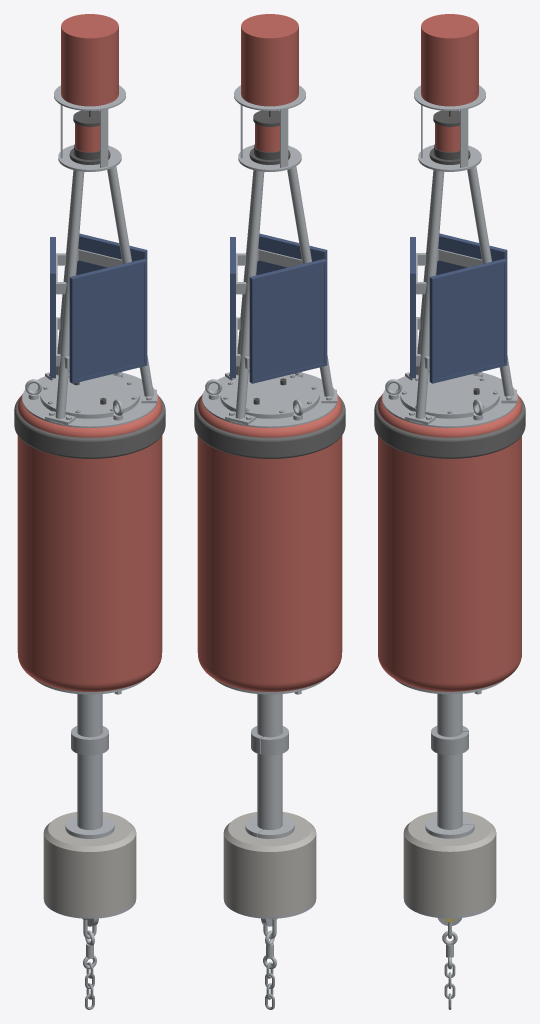
File: step_06.glb
3 renders of one model, left to right at view 1: azimuth 30°, elevation 25°; view 2: azimuth 150°, elevation 25°; view 3: azimuth 270°, elevation 25°, orthographic.
Visible parts, largest first — view 1: part__float hull, part__solar panel 1, part__ballast ring, part__topmark, part__fender ring, part__tail tube, part__hatch lid, part__tripod leg 2, part__deck plate, part__tripod leg 3, part__solar panel 2, part__solar panel 3 (+10 smaller); view 2: part__float hull, part__solar panel 3, part__ballast ring, part__topmark, part__fender ring, part__tail tube, part__hatch lid, part__tripod leg 1, part__deck plate, part__tripod leg 2, part__solar panel 1, part__solar panel 2 (+10 smaller); view 3: part__float hull, part__solar panel 2, part__ballast ring, part__topmark, part__fender ring, part__tail tube, part__hatch lid, part__tripod leg 3, part__deck plate, part__tripod leg 1, part__solar panel 3, part__solar panel 1 (+10 smaller).
Boxes of the visible parts, bbox=[...] form: part__float hull: bbox=[17, 394, 162, 691]; part__solar panel 1: bbox=[69, 259, 147, 383]; part__ballast ring: bbox=[43, 812, 136, 916]; part__topmark: bbox=[61, 14, 118, 106]; part__fender ring: bbox=[14, 396, 165, 458]; part__tail tube: bbox=[43, 694, 136, 918]; part__hatch lid: bbox=[40, 374, 139, 416]; part__tripod leg 2: bbox=[45, 170, 84, 424]; part__deck plate: bbox=[22, 373, 157, 427]; part__tripod leg 3: bbox=[107, 166, 156, 403]; part__solar panel 2: bbox=[76, 233, 147, 275]; part__solar panel 3: bbox=[50, 237, 55, 378]; part__float hull: bbox=[197, 394, 342, 691]; part__solar panel 3: bbox=[249, 259, 327, 383]; part__ballast ring: bbox=[223, 812, 316, 916]; part__topmark: bbox=[241, 14, 298, 106]; part__fender ring: bbox=[194, 396, 345, 458]; part__tail tube: bbox=[223, 694, 316, 918]; part__hatch lid: bbox=[220, 374, 319, 416]; part__tripod leg 1: bbox=[225, 170, 264, 424]; part__deck plate: bbox=[202, 373, 337, 427]; part__tripod leg 2: bbox=[287, 166, 336, 403]; part__solar panel 1: bbox=[256, 233, 327, 275]; part__solar panel 2: bbox=[230, 237, 235, 378]; part__float hull: bbox=[378, 394, 521, 691]; part__solar panel 2: bbox=[429, 258, 507, 383]; part__ballast ring: bbox=[403, 811, 496, 915]; part__topmark: bbox=[421, 14, 478, 106]; part__fender ring: bbox=[374, 397, 525, 458]; part__tail tube: bbox=[403, 694, 496, 918]; part__hatch lid: bbox=[400, 374, 499, 416]; part__tripod leg 3: bbox=[405, 170, 444, 424]; part__deck plate: bbox=[382, 373, 517, 427]; part__tripod leg 1: bbox=[467, 166, 516, 403]; part__solar panel 3: bbox=[436, 233, 507, 275]; part__solar panel 1: bbox=[410, 237, 415, 378].
Size of the model in its own units: 524 by 3758 by 524.
